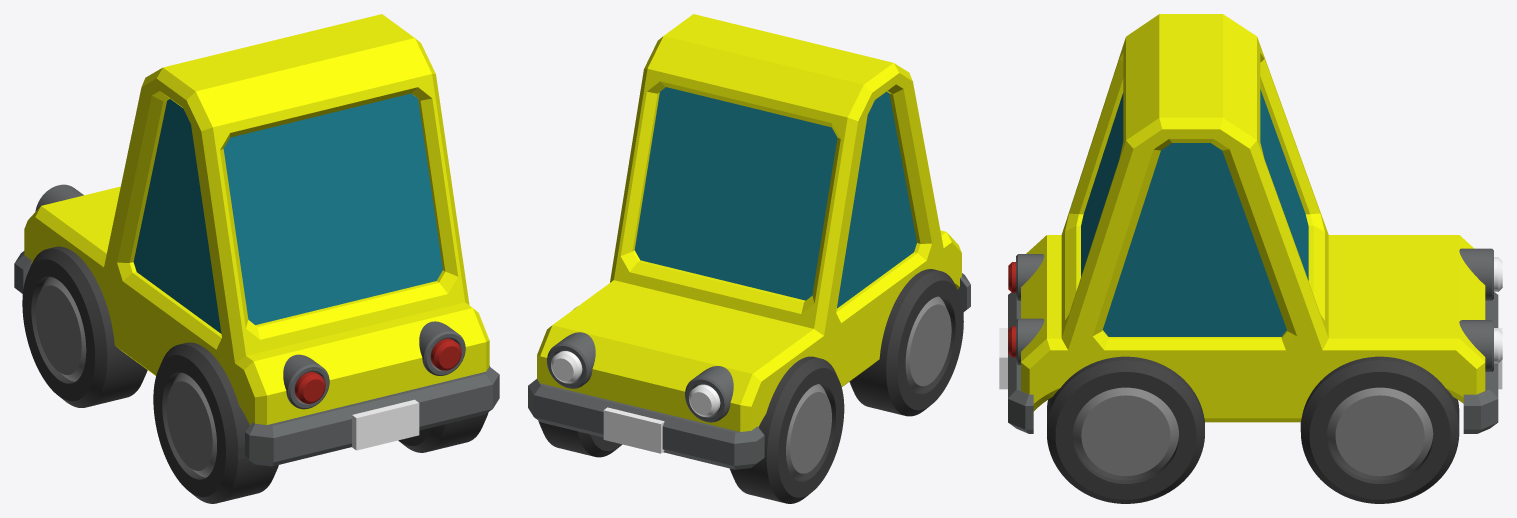
The model's file is 5x5 Vehicle.obj.
The picture shows the model from 3 angles, left to right: view 1: azimuth 30°, elevation 25°; view 2: azimuth 150°, elevation 25°; view 3: azimuth 270°, elevation 25°; orthographic projection. The views are drawn at different scales.
Parts seen in each view (by area): view 1: Körper1:11, Körper1, Körper1:3, Körper2:2, Körper2:3, Körper2:1, Körper1:2, Körper1:4, Körper2, Körper1:8, Körper1:9, LIGHT_aa (+2 smaller); view 2: Körper1:11, Körper1, Körper2:2, Körper1:10, Körper1:3, Körper1:2, Körper2:1, Körper1:5, Körper1:1, Körper1:6, Körper1:7, LIGHT_a (+1 smaller); view 3: Körper1:11, Körper1, Körper1:1, Körper2, Körper1:2, Körper2:1, Körper1:10, Körper2:3, Körper1:7, Körper1:6, Körper1:8, Körper1:9 (+1 smaller).
Boxes of the visible parts, left/top/right/bottom form: Körper1:11: left=24, top=14, right=489, bottom=424; Körper1: left=133, top=93, right=442, bottom=333; Körper1:3: left=22, top=246, right=147, bottom=407; Körper2:2: left=153, top=342, right=278, bottom=503; Körper2:3: left=245, top=366, right=499, bottom=466; Körper2:1: left=36, top=276, right=86, bottom=381; Körper1:2: left=166, top=372, right=216, bottom=477; Körper1:4: left=352, top=399, right=419, bottom=450; Körper2: left=398, top=366, right=489, bottom=452; Körper1:8: left=419, top=321, right=465, bottom=375; Körper1:9: left=283, top=354, right=329, bottom=409; LIGHT_aa: left=295, top=372, right=325, bottom=403; Körper1:11: left=537, top=14, right=961, bottom=431; Körper1: left=634, top=87, right=916, bottom=308; Körper2:2: left=849, top=269, right=963, bottom=416; Körper1:10: left=528, top=379, right=764, bottom=469; Körper1:3: left=730, top=356, right=844, bottom=503; Körper1:2: left=905, top=296, right=951, bottom=392; Körper2:1: left=786, top=384, right=831, bottom=479; Körper1:5: left=603, top=407, right=664, bottom=453; Körper1:1: left=538, top=307, right=622, bottom=457; Körper1:6: left=547, top=332, right=595, bottom=388; Körper1:7: left=685, top=366, right=733, bottom=422; LIGHT_a: left=689, top=384, right=720, bottom=417; Körper1:11: left=1021, top=14, right=1485, bottom=422; Körper1: left=1081, top=89, right=1308, bottom=336; Körper1:1: left=1300, top=356, right=1459, bottom=503; Körper2: left=1047, top=356, right=1204, bottom=503; Körper1:2: left=1072, top=387, right=1178, bottom=480; Körper2:1: left=1327, top=387, right=1433, bottom=480; Körper1:10: left=1463, top=292, right=1498, bottom=433; Körper2:3: left=1008, top=292, right=1033, bottom=433; Körper1:7: left=1459, top=248, right=1493, bottom=300; Körper1:6: left=1459, top=320, right=1493, bottom=371; Körper1:8: left=1016, top=318, right=1044, bottom=365; Körper1:9: left=1016, top=254, right=1044, bottom=300.
Bounding box in the file's own units: 34.31 × 48.17 × 58.04.
